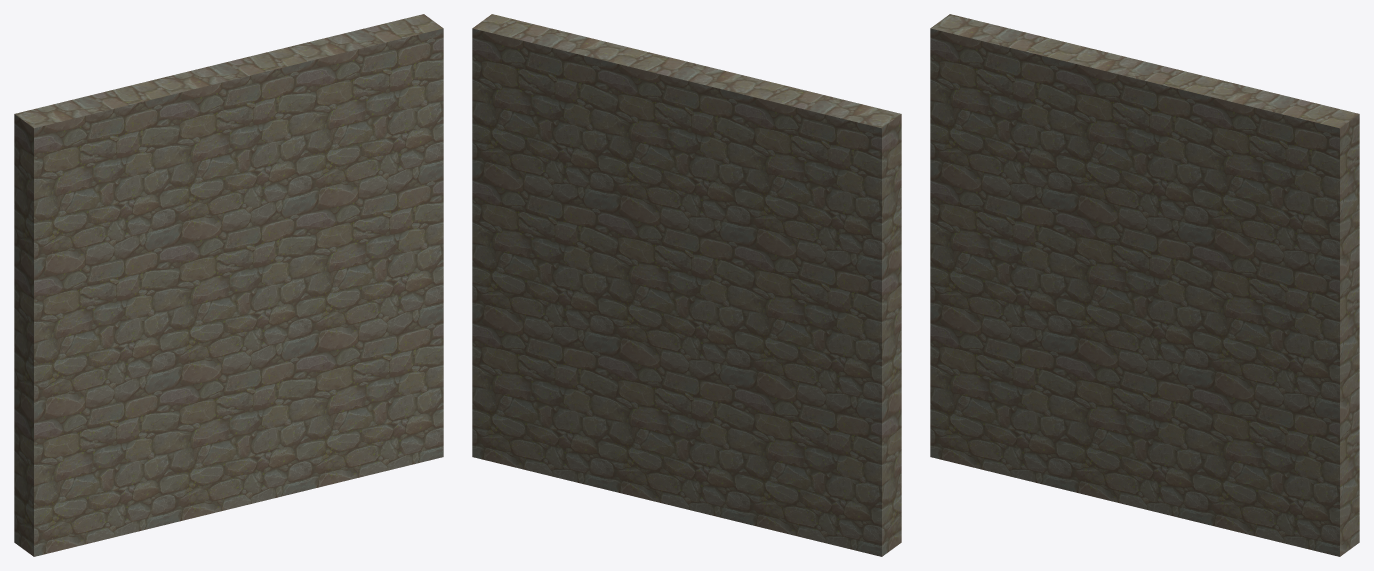
The model's file is SM_FW01_Ruins_Int_Wall_A_6x6_01.fbx.
3 views of the same model, side by side, from view 1: azimuth 30°, elevation 25°; view 2: azimuth 150°, elevation 25°; view 3: azimuth 330°, elevation 25° (orthographic).
Visible parts, largest first — view 1: SM_FW01_Ruins_Int_Wall_A_6x6_01; view 2: SM_FW01_Ruins_Int_Wall_A_6x6_01; view 3: SM_FW01_Ruins_Int_Wall_A_6x6_01.
Part boxes in pixels (x1,y1,x2,y2): SM_FW01_Ruins_Int_Wall_A_6x6_01: [14, 14, 443, 556]; SM_FW01_Ruins_Int_Wall_A_6x6_01: [472, 14, 901, 556]; SM_FW01_Ruins_Int_Wall_A_6x6_01: [930, 14, 1359, 556].
Size of the model in its own units: 6 by 6 by 0.5004.
